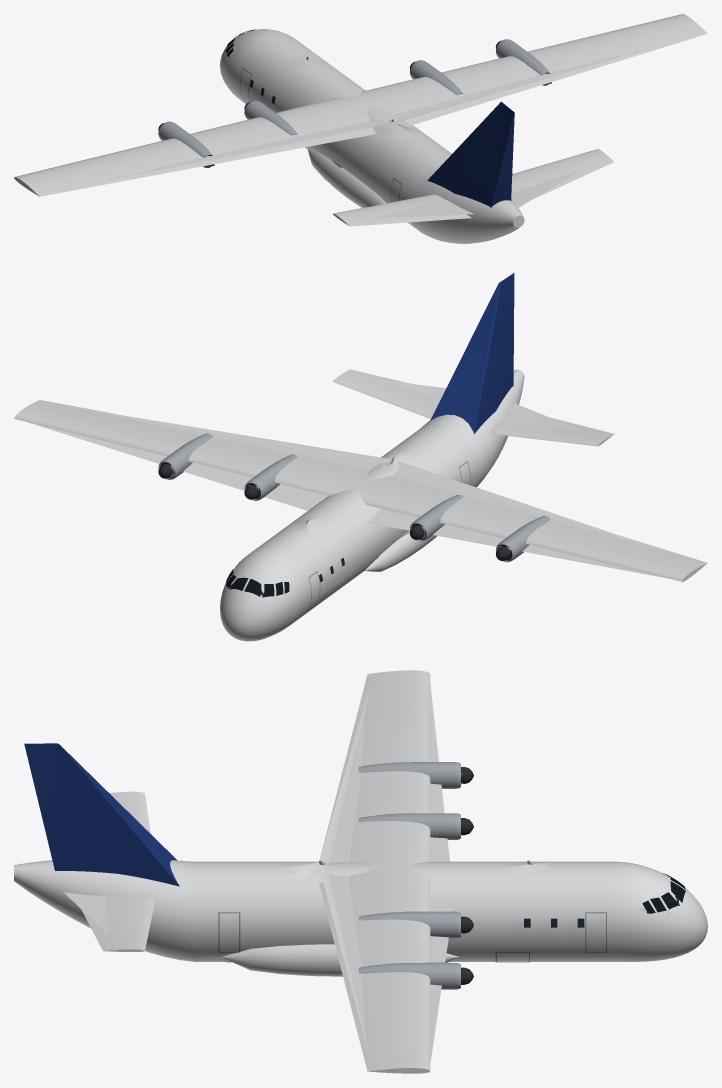
File: lat_quad_turboprop.dae
3 renders of one model, top to bottom at view 1: azimuth 30°, elevation 25°; view 2: azimuth 150°, elevation 25°; view 3: azimuth 270°, elevation 25°, orthographic. The views are drawn at different scales.
Parts seen in each view (by area): view 1: lat_quad_turboprop150, lat_quad_turboprop1, lat_quad_turboprop32; view 2: lat_quad_turboprop150, lat_quad_turboprop1, lat_quad_turboprop32; view 3: lat_quad_turboprop150, lat_quad_turboprop1, lat_quad_turboprop32.
Part boxes in pixels (x1,y1,x2,y2): lat_quad_turboprop150: (14,14,707,243); lat_quad_turboprop1: (373,101,582,218); lat_quad_turboprop32: (106,34,645,225); lat_quad_turboprop150: (14,369,707,641); lat_quad_turboprop1: (26,272,668,578); lat_quad_turboprop32: (67,406,678,604); lat_quad_turboprop150: (14,670,707,1073); lat_quad_turboprop1: (24,684,453,1063); lat_quad_turboprop32: (119,690,679,1071).
Size of the model in its own units: 40.4 by 29.8 by 10.33.
